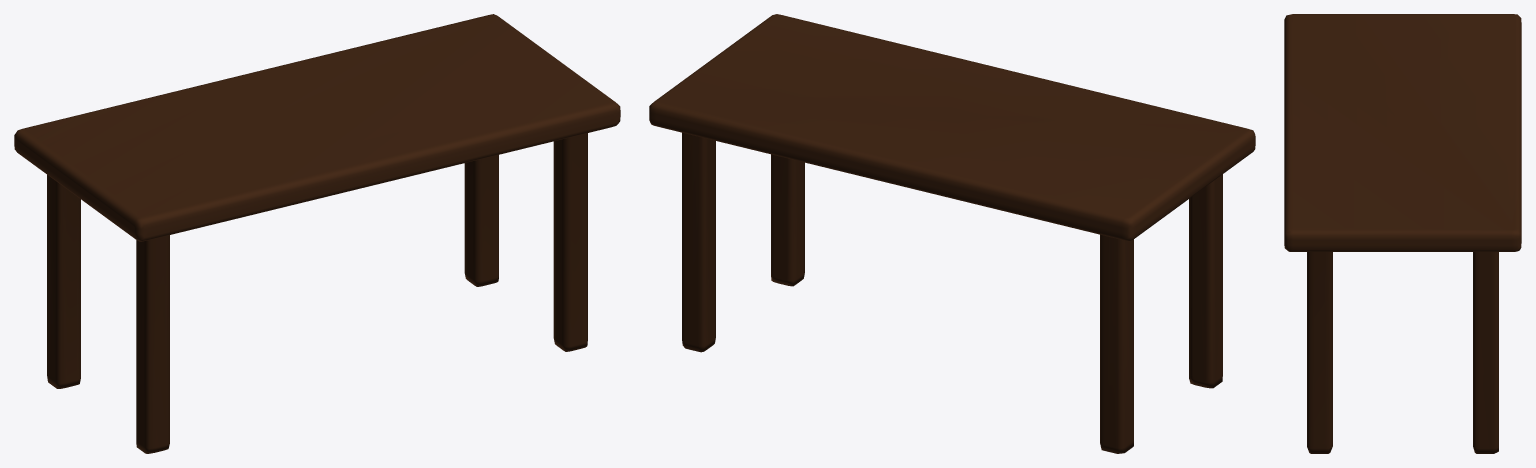
The model's file is lumiere-nesting-table-small.glb.
3 views of the same model, side by side, from view 1: azimuth 30°, elevation 25°; view 2: azimuth 150°, elevation 25°; view 3: azimuth 270°, elevation 25° (orthographic). The views are drawn at different scales.
Visible parts, largest first — view 1: lumiere-nesting-table-small_LOD0; view 2: lumiere-nesting-table-small_LOD0; view 3: lumiere-nesting-table-small_LOD0.
Part boxes in pixels (x1,y1,x2,y2): lumiere-nesting-table-small_LOD0: (14, 14, 620, 453); lumiere-nesting-table-small_LOD0: (649, 14, 1255, 453); lumiere-nesting-table-small_LOD0: (1284, 14, 1521, 453).
Size of what is drawn, in the model's own units: 0.88 by 0.43 by 0.4.
